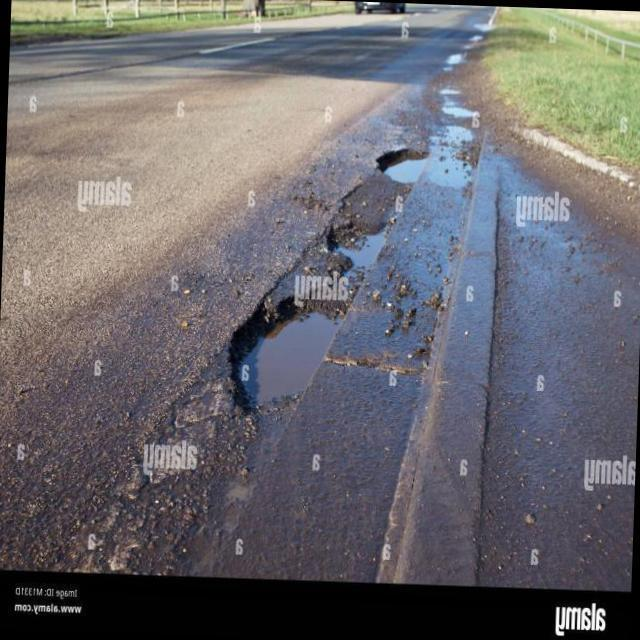Pothole: (239, 313, 340, 404), (340, 233, 385, 269), (384, 159, 427, 185)
